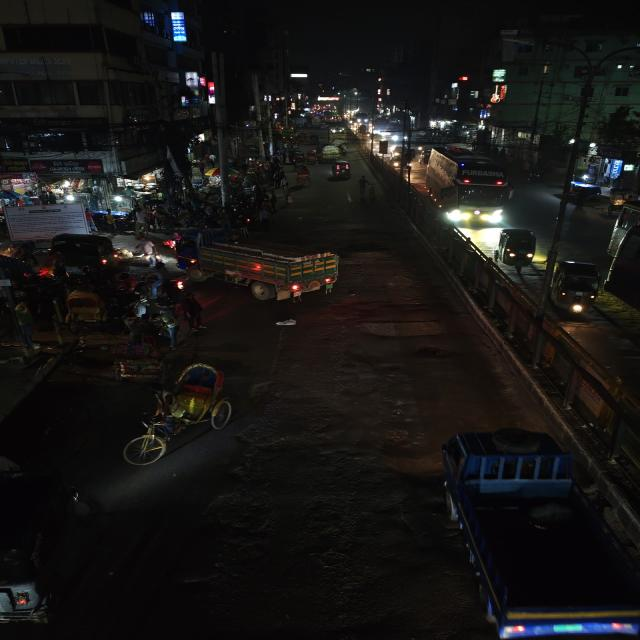bus: (425, 146, 513, 228)
car: (45, 232, 124, 270)
cng: (0, 445, 93, 637), (542, 256, 604, 321), (490, 226, 541, 268), (328, 159, 354, 181)
pedestrian: (175, 293, 206, 332), (256, 206, 273, 230), (281, 182, 293, 204), (357, 176, 367, 199)
pickup_van: (434, 422, 639, 640), (176, 230, 346, 304)
rickshaw: (129, 361, 241, 465), (109, 336, 181, 384), (63, 290, 109, 330), (294, 167, 310, 186), (304, 149, 318, 165)
